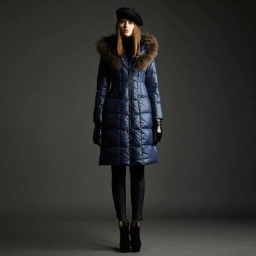face: (113, 15, 145, 58)
